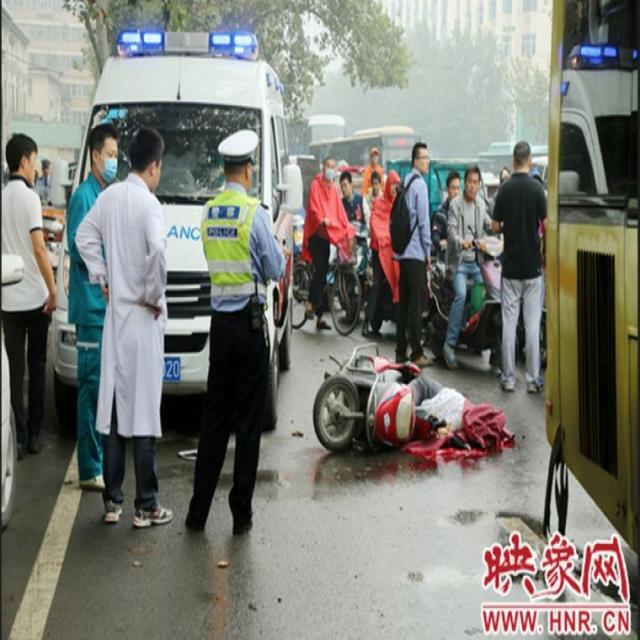10-: (3, 105, 560, 531)
down: (391, 356, 524, 454)
